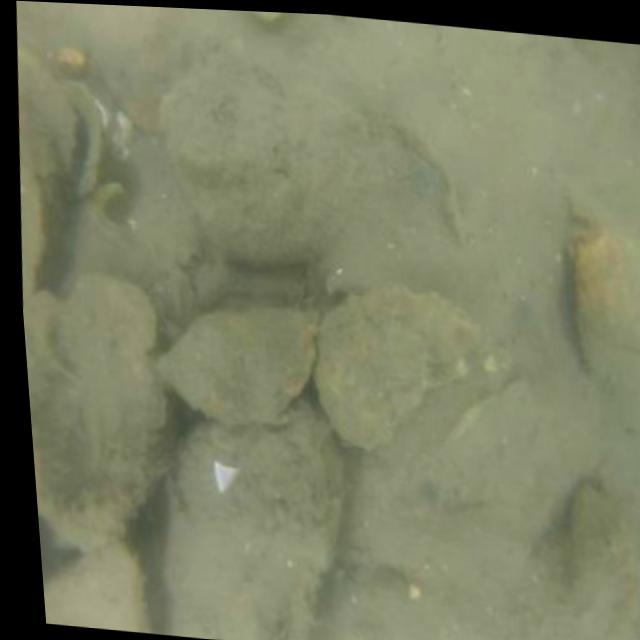Oyster-Indeterminate: (158, 66, 372, 283), (167, 401, 340, 640), (25, 276, 168, 547), (315, 287, 477, 445), (160, 308, 311, 426), (548, 488, 640, 640)
